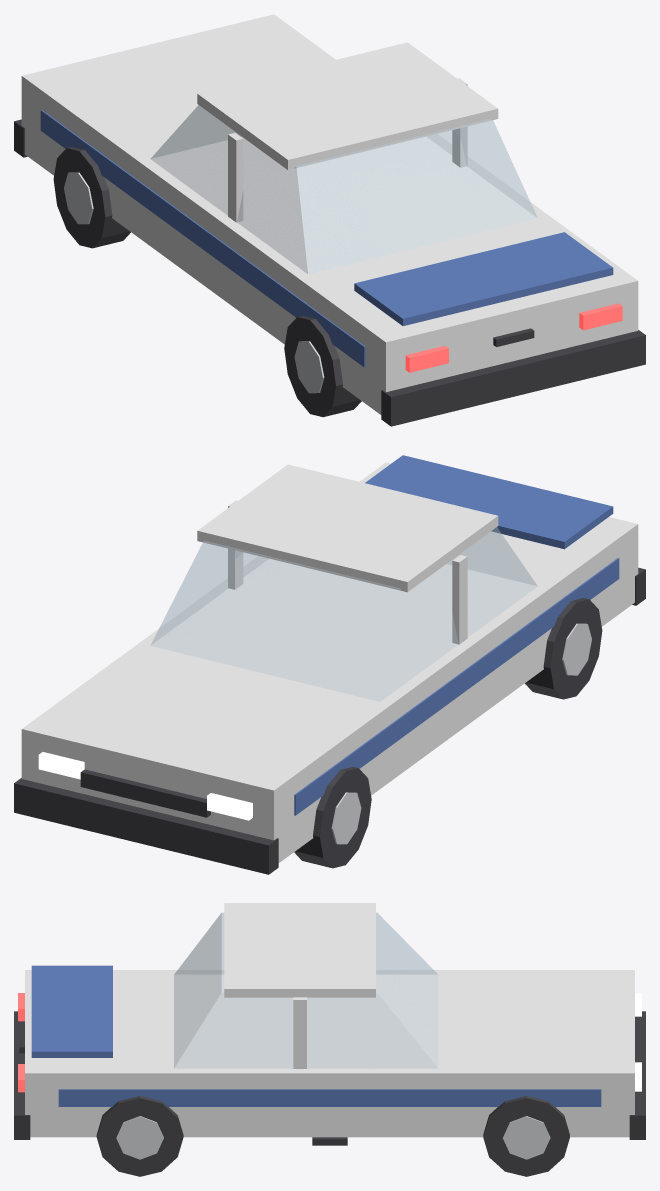
Rendered from police_car.glb.
3 renders of one model, top to bottom at view 1: azimuth 30°, elevation 25°; view 2: azimuth 150°, elevation 25°; view 3: azimuth 270°, elevation 25°, orthographic. The views are drawn at different scales.
Parts seen in each view (by area): view 1: body, wheel_fl, wheel_rl; view 2: body, wheel_rl, wheel_fl; view 3: body, wheel_rr, wheel_fr.
Boxes of the visible parts, <box> form: body: <box>14,14,645,426</box>; wheel_fl: <box>53,147,130,248</box>; wheel_rl: <box>284,315,361,417</box>; body: <box>14,455,645,874</box>; wheel_rl: <box>525,598,602,699</box>; wheel_fl: <box>294,767,371,868</box>; body: <box>14,903,645,1139</box>; wheel_rr: <box>96,1096,183,1176</box>; wheel_fr: <box>483,1096,569,1176</box>.
Bounding box in the file's own units: 1.92 × 1.5 × 4.66.
